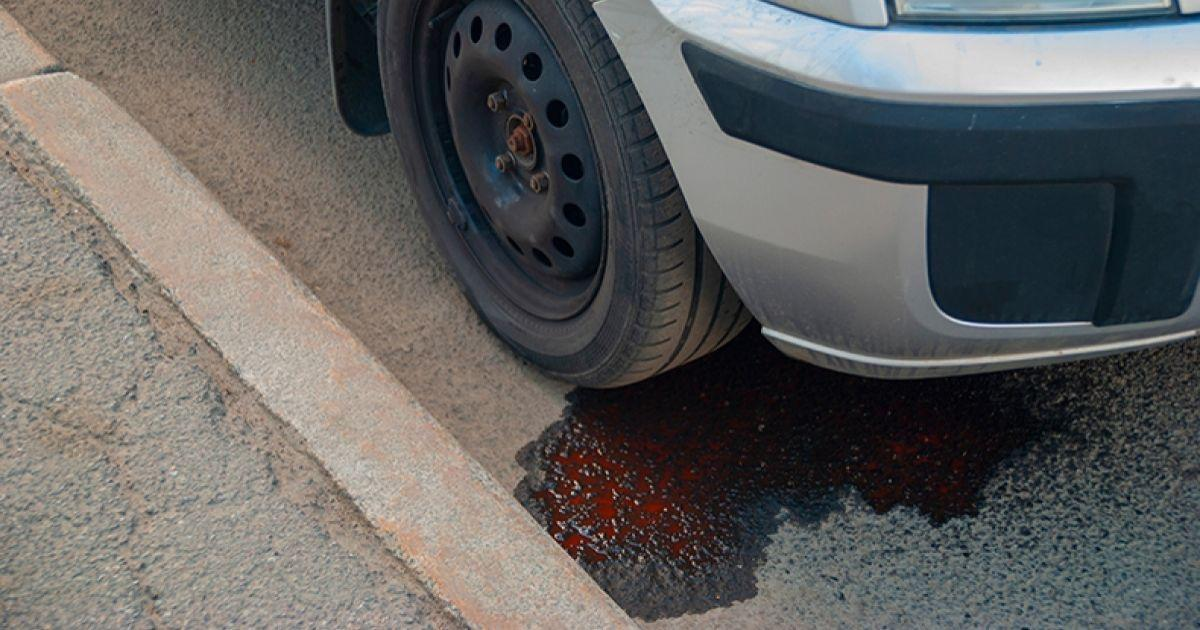water accumulation: (512, 324, 1052, 616)
